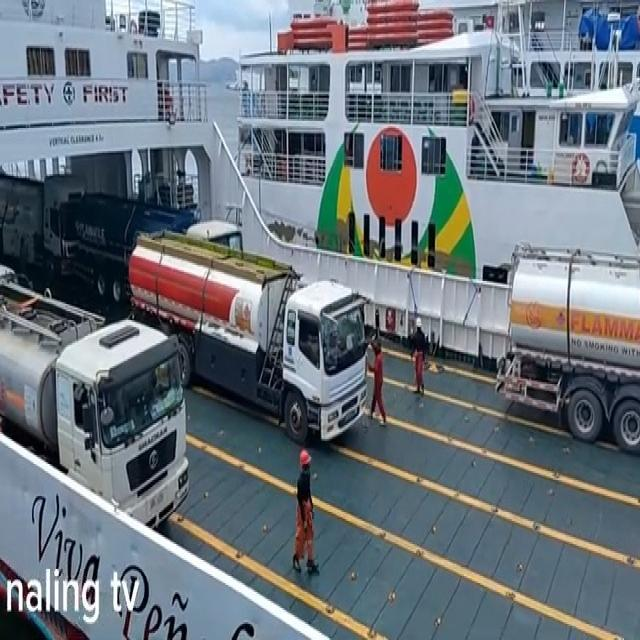truck: (0, 263, 192, 532), (129, 234, 368, 447), (494, 242, 640, 453), (79, 192, 247, 322)
